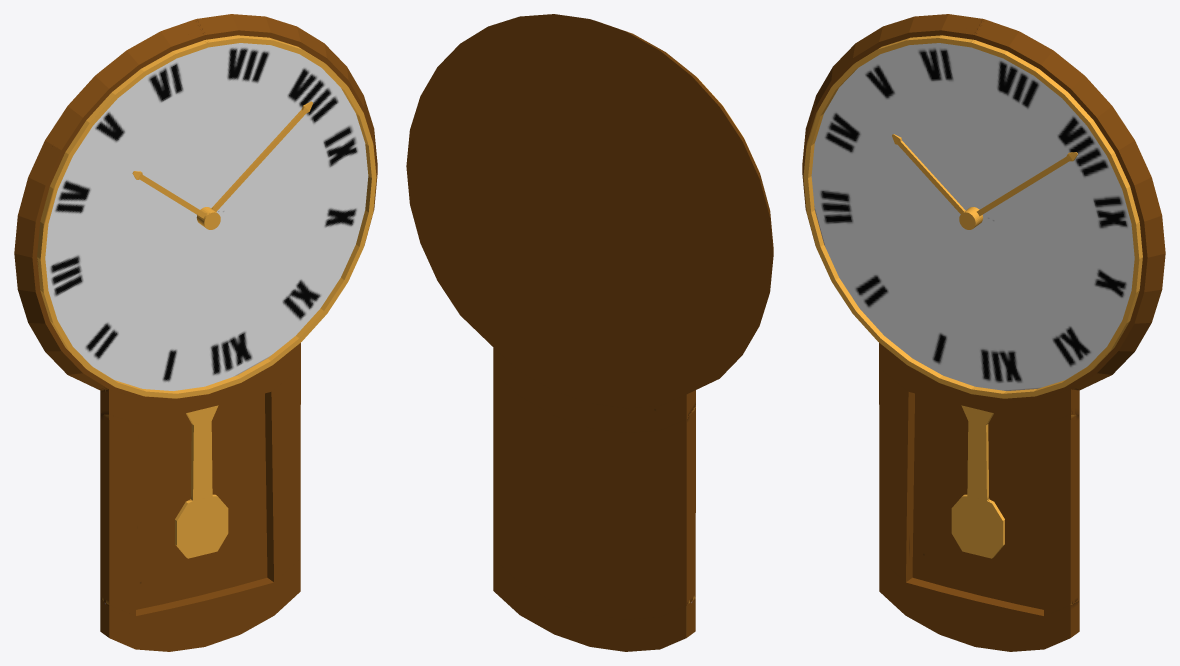
3 renders of one model, left to right at view 1: azimuth 30°, elevation 25°; view 2: azimuth 150°, elevation 25°; view 3: azimuth 330°, elevation 25°, orthographic.
Visible parts, largest first — view 1: Cylinder_2; view 2: Cylinder_2; view 3: Cylinder_2.
Part boxes in pixels (box(x1,y1,x2,y2)): Cylinder_2: box(14, 14, 377, 651); Cylinder_2: box(406, 14, 773, 651); Cylinder_2: box(802, 14, 1165, 651).
Size of the model in its own units: 2 by 3.27 by 0.1581.
1 material, 1 textured.
